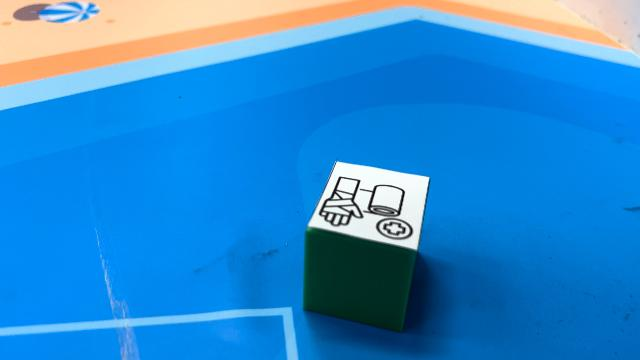bandage: (302, 160, 430, 332)
